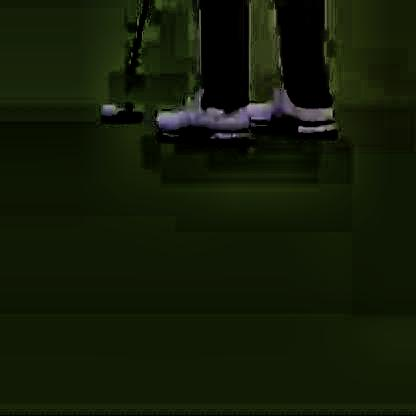golfball: (98, 100, 115, 117)
